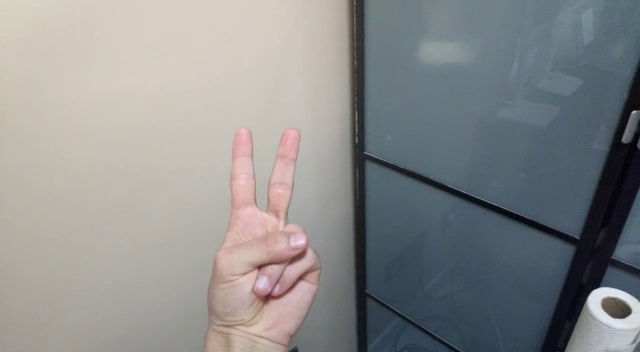Peace: (203, 117, 324, 334)
